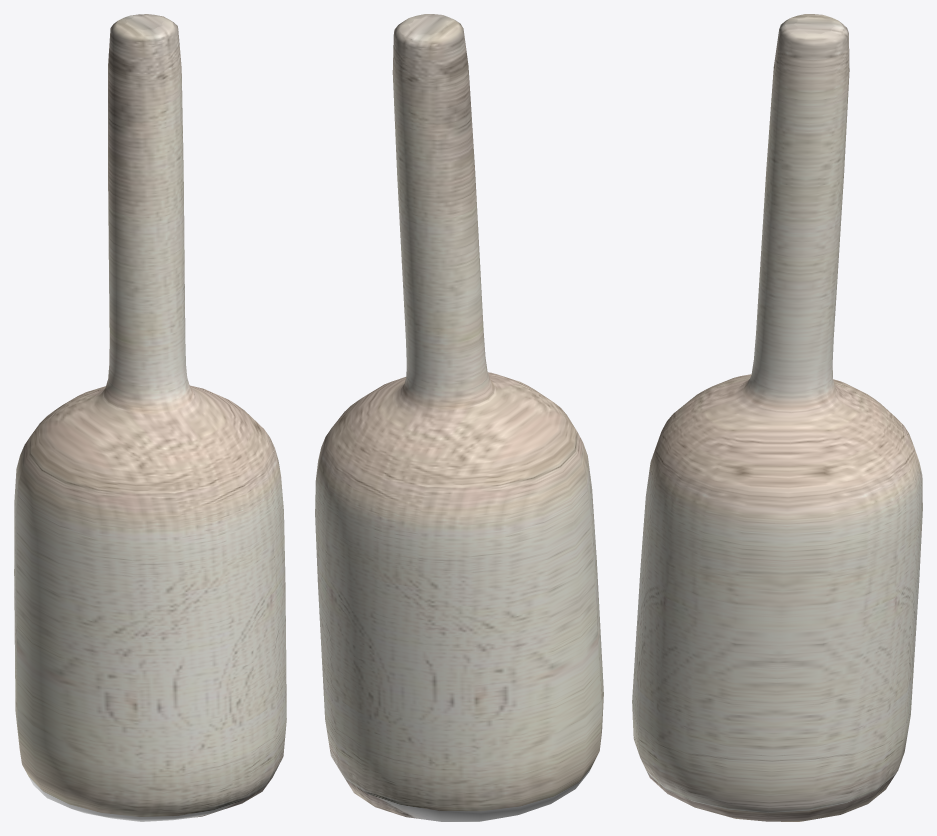
File: Project Name.obj
3 views of the same model, side by side, from view 1: azimuth 30°, elevation 25°; view 2: azimuth 150°, elevation 25°; view 3: azimuth 270°, elevation 25° (orthographic). The views are drawn at different scales.
Visible parts, largest first — view 1: 000_Cylinder_-_baked; view 2: 000_Cylinder_-_baked; view 3: 000_Cylinder_-_baked.
Part boxes in pixels (box(x1,y1,x2,y2)): 000_Cylinder_-_baked: box(14, 14, 286, 821); 000_Cylinder_-_baked: box(315, 14, 603, 821); 000_Cylinder_-_baked: box(632, 14, 922, 821).
Size of the model in its own units: 84.83 by 253 by 86.96.
Materials: 1 (1 with a texture image).
